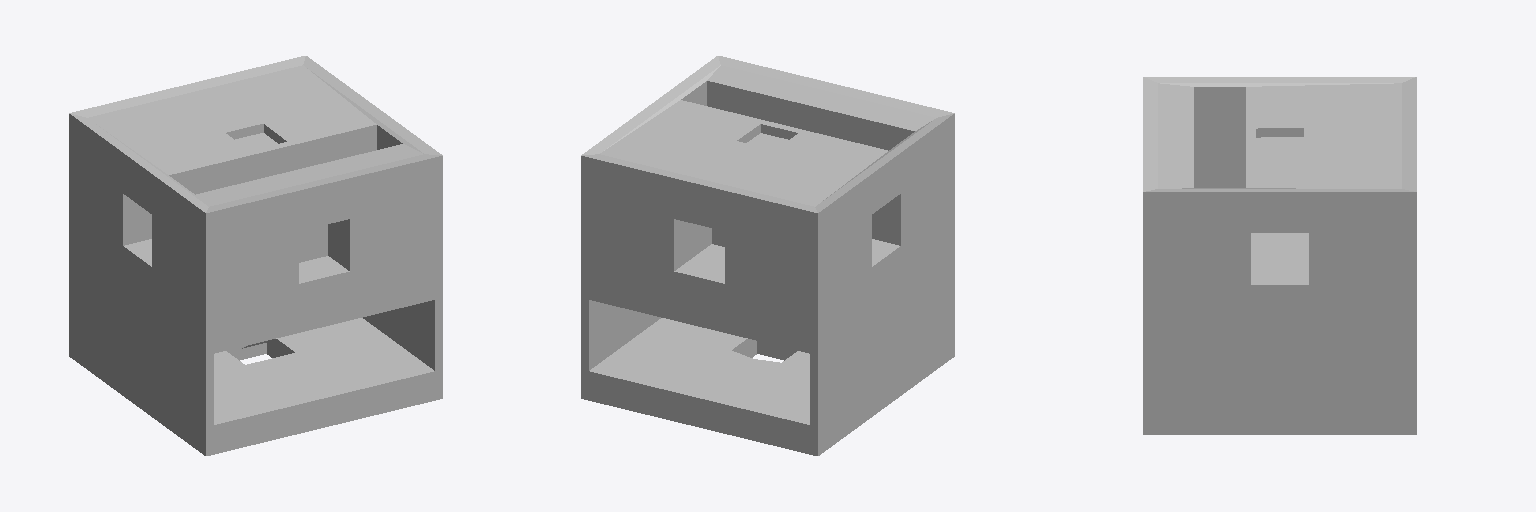
The model's file is gearbox_geo.obj.
3 views of the same model, side by side, from view 1: azimuth 30°, elevation 25°; view 2: azimuth 150°, elevation 25°; view 3: azimuth 270°, elevation 25° (orthographic).
Parts seen in each view (by area): view 1: gearbox_geo; view 2: gearbox_geo; view 3: gearbox_geo.
Part boxes in pixels (left/top/right/bottom): gearbox_geo: left=69, top=56, right=442, bottom=455; gearbox_geo: left=581, top=56, right=954, bottom=455; gearbox_geo: left=1143, top=77, right=1416, bottom=434.
Bounding box in the file's own units: 0.7051 × 0.6913 × 0.7051.